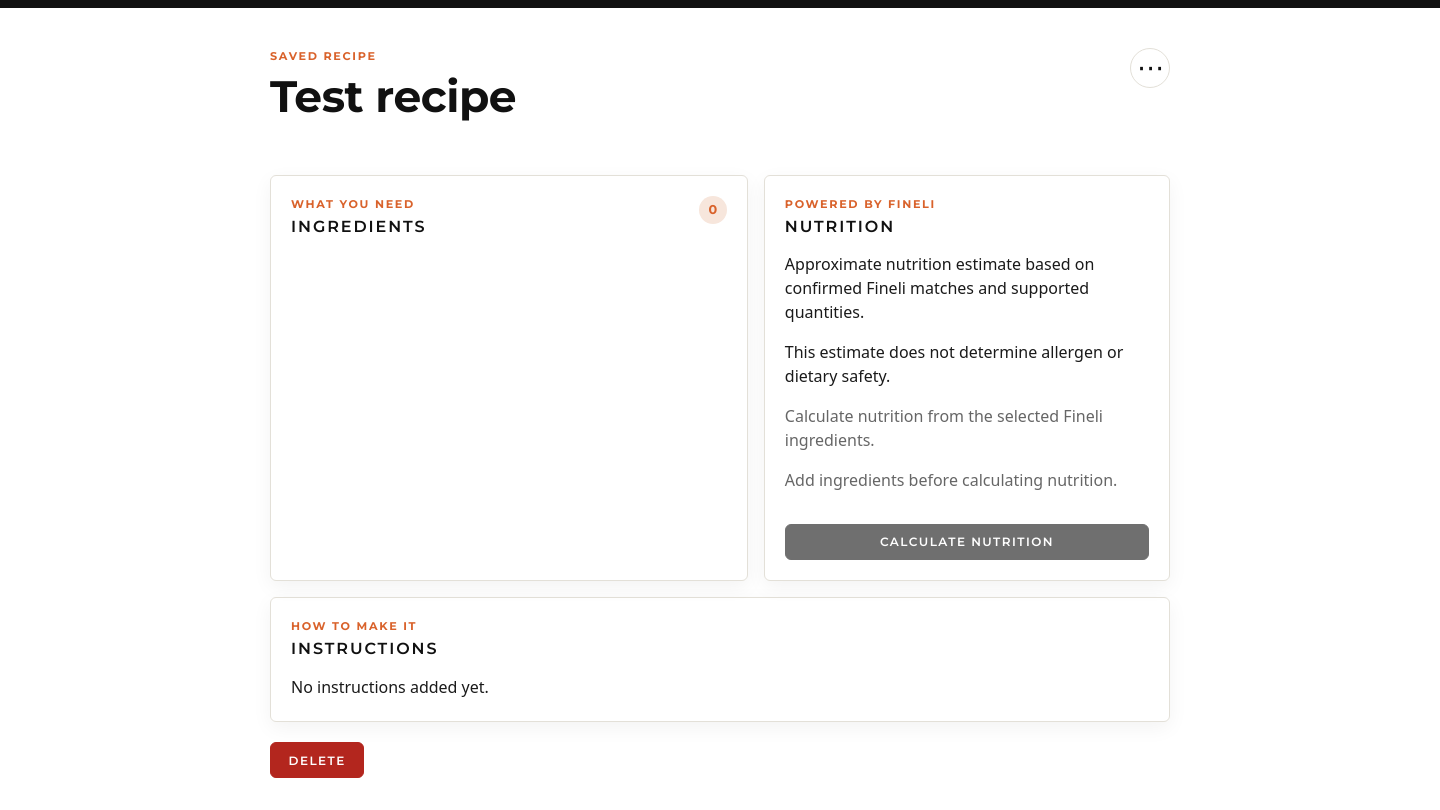
Test: App routes › returns to saved recipes after deleting a recipe
This screenshot has width=1440, height=810.
(page scrolled)
Expected: the heading "Test recipe" is shown, [270,70,516,123]
Click the button "Delete": (317,760) [270,742,364,778]
(page scrolled)
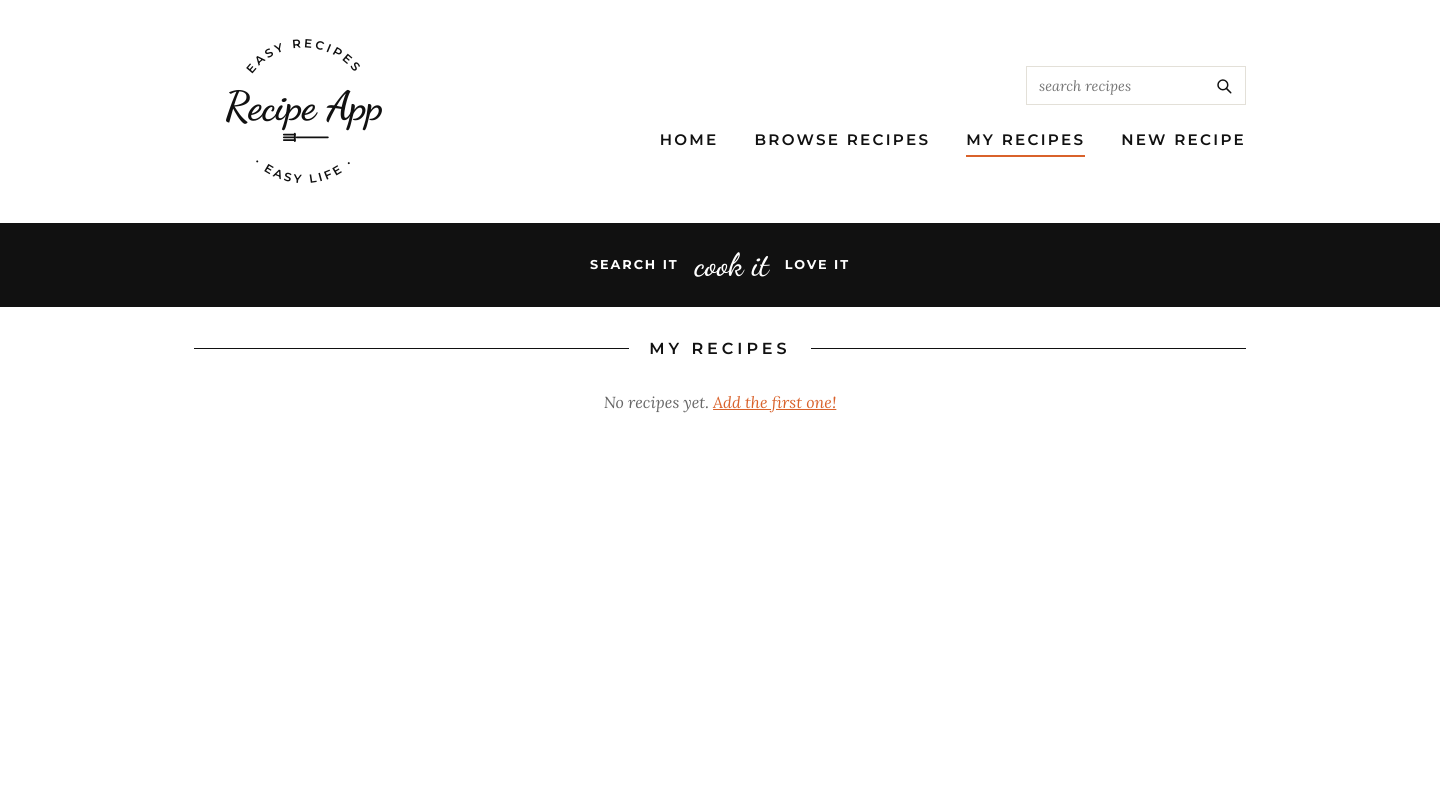
Now the text "No recipes yet." is shown, box [604,392,713,412]
